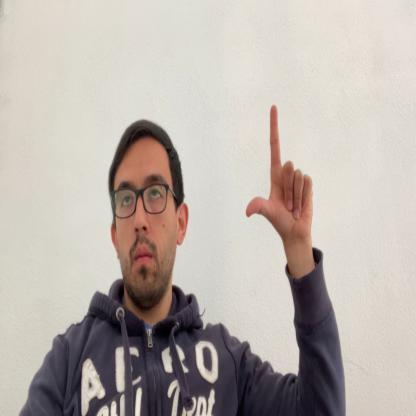L: (246, 105, 312, 241)
